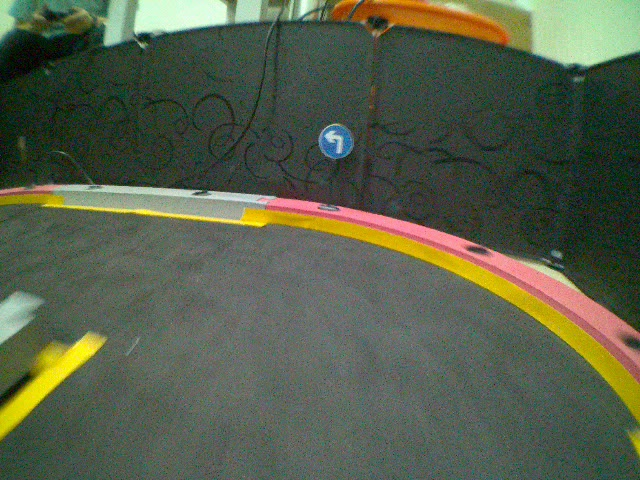turn: (316, 123, 354, 159)
